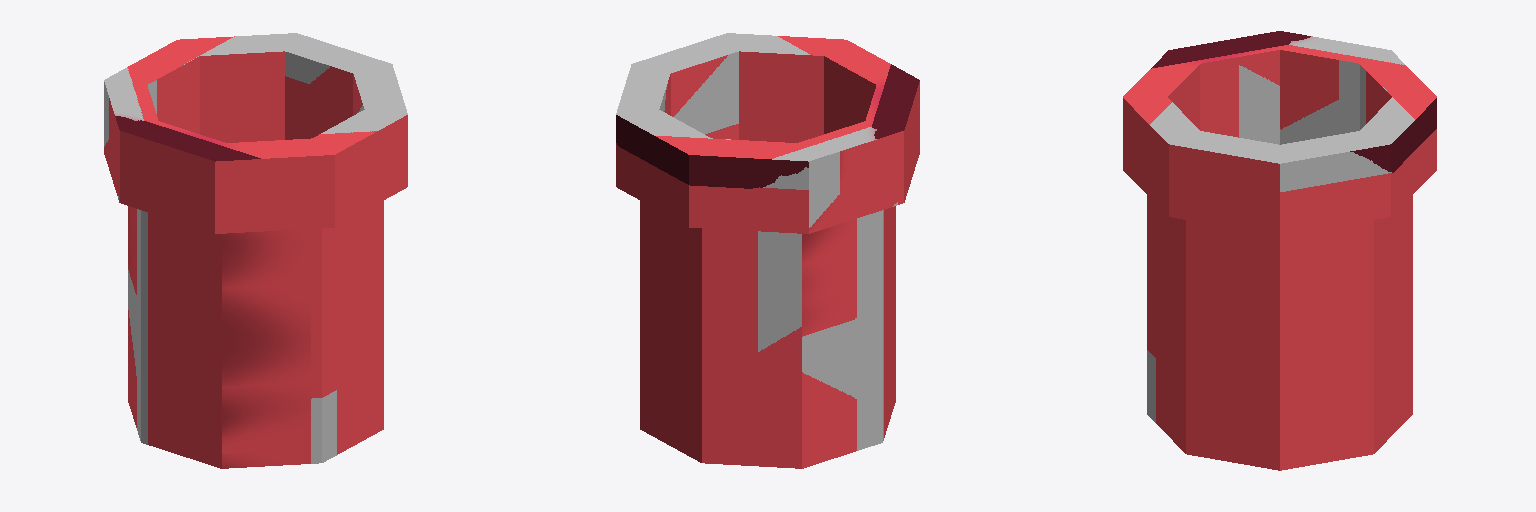
3 renders of one model, left to right at view 1: azimuth 30°, elevation 25°; view 2: azimuth 150°, elevation 25°; view 3: azimuth 270°, elevation 25°, orthographic.
Visible parts, largest first — view 1: Cylinder, Cylinder.001; view 2: Cylinder, Cylinder.001; view 3: Cylinder, Cylinder.001.
Part boxes in pixels (x1,y1,x2,y2): Cylinder: (104,33,407,468); Cylinder.001: (148,51,364,142); Cylinder: (616,33,919,468); Cylinder.001: (659,51,875,142); Cylinder: (1123,31,1436,470); Cylinder.001: (1168,50,1391,144).
Bounding box in the file's own units: 1.19 × 1.32 × 1.19.
Materials: 1 (1 with a texture image).